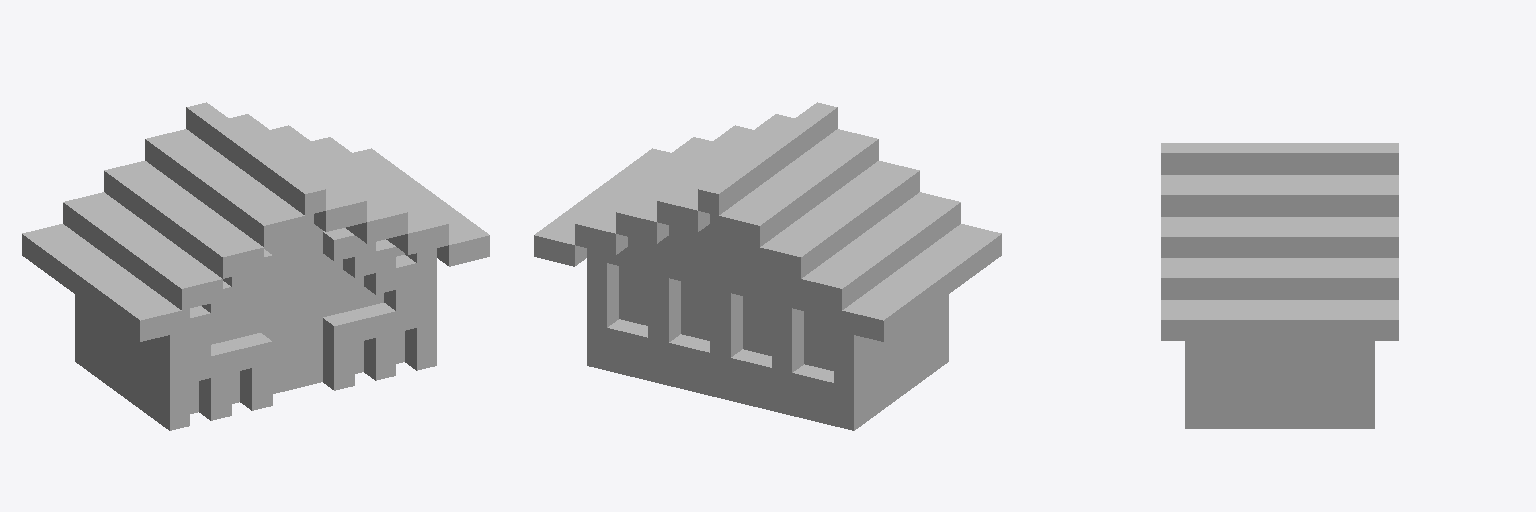
File: llama_pen.obj
3 renders of one model, left to right at view 1: azimuth 30°, elevation 25°; view 2: azimuth 150°, elevation 25°; view 3: azimuth 270°, elevation 25°, orthographic.
Size of the model in its own units: 17 by 10 by 10.